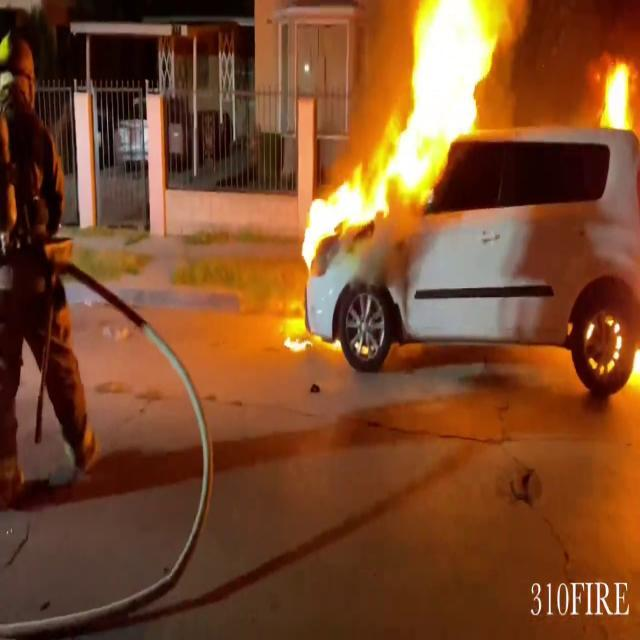Fire: (298, 0, 513, 244), (593, 54, 639, 134)
